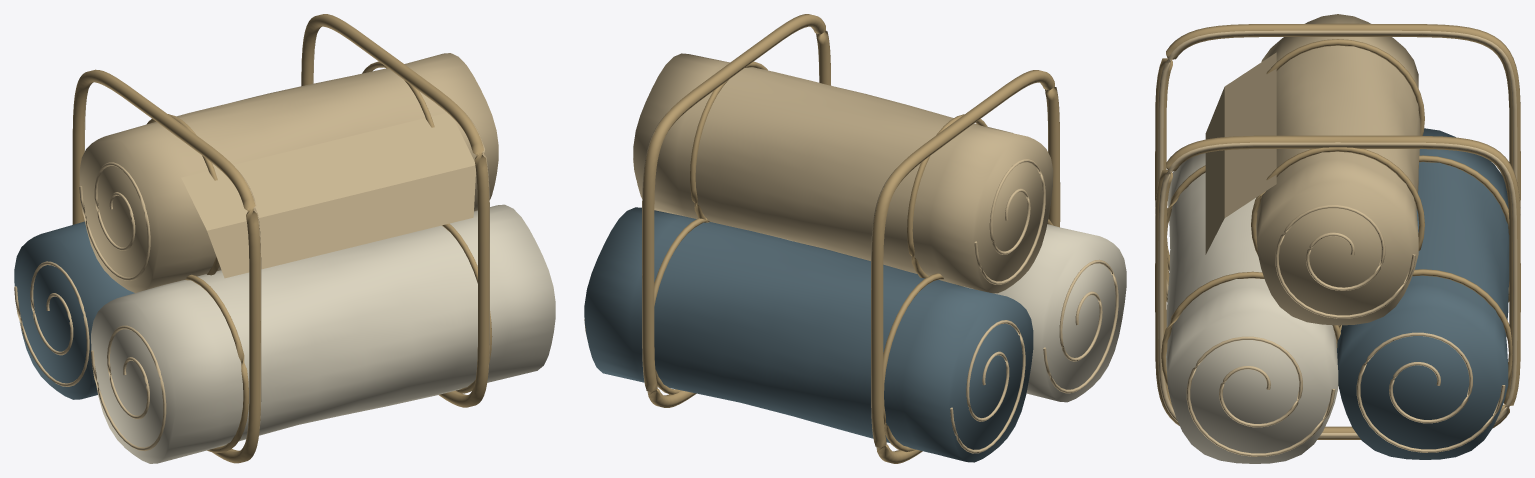
The model's file is cloth.glb.
The picture shows the model from 3 angles, left to right: view 1: azimuth 30°, elevation 25°; view 2: azimuth 150°, elevation 25°; view 3: azimuth 270°, elevation 25°; orthographic projection.
Parts seen in each view (by area): view 1: Cargo_cloth; view 2: Cargo_cloth; view 3: Cargo_cloth.
Part boxes in pixels (bbox=[...]): Cargo_cloth: bbox=[14, 14, 555, 463]; Cargo_cloth: bbox=[584, 14, 1126, 463]; Cargo_cloth: bbox=[1155, 14, 1520, 463].
Size of the model in its own units: 0.942 by 0.7042 by 0.7742.
